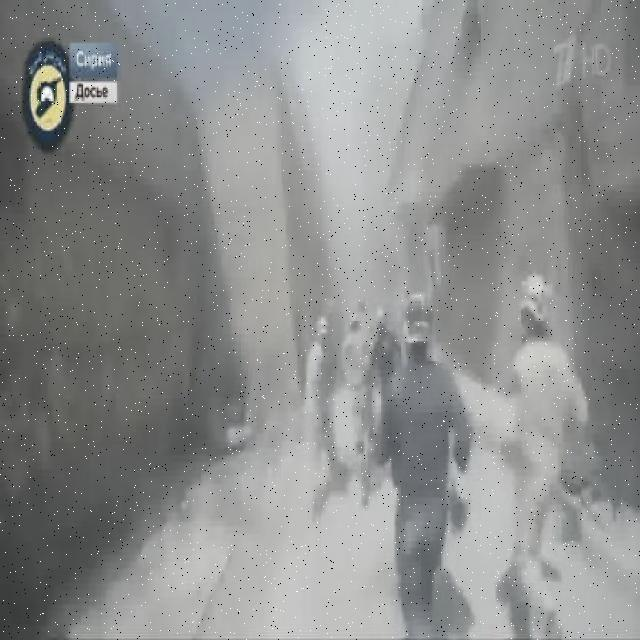Helmet: (518, 272, 554, 320), (400, 293, 434, 339)
